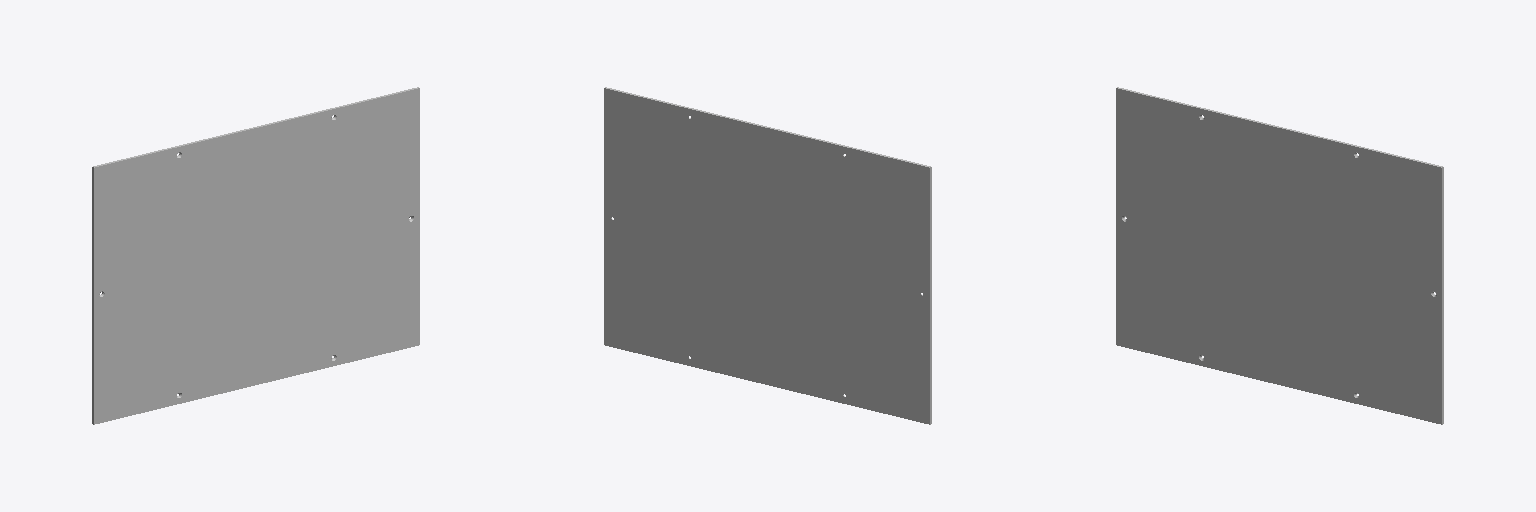
File: panelcajon.obj
3 views of the same model, side by side, from view 1: azimuth 30°, elevation 25°; view 2: azimuth 150°, elevation 25°; view 3: azimuth 330°, elevation 25° (orthographic).
Parts seen in each view (by area): view 1: mesh_0; view 2: mesh_0; view 3: mesh_0.
Boxes of the visible parts, <box> form: mesh_0: <box>92,87,419,424</box>; mesh_0: <box>604,87,931,424</box>; mesh_0: <box>1116,87,1443,424</box>.
Size of the model in its own units: 808 by 610 by 6.35.